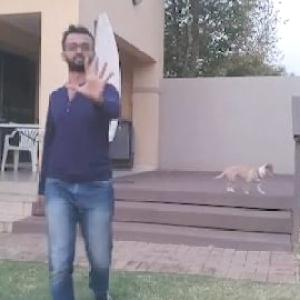follow_hand: (61, 50, 119, 108)
